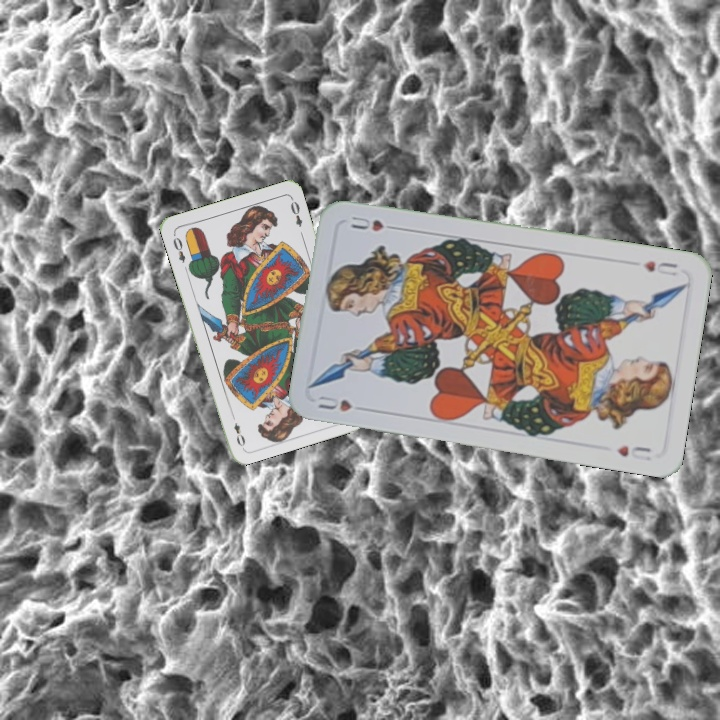EO: (169, 233, 188, 265)
HU: (313, 391, 355, 414), (638, 257, 680, 279)
